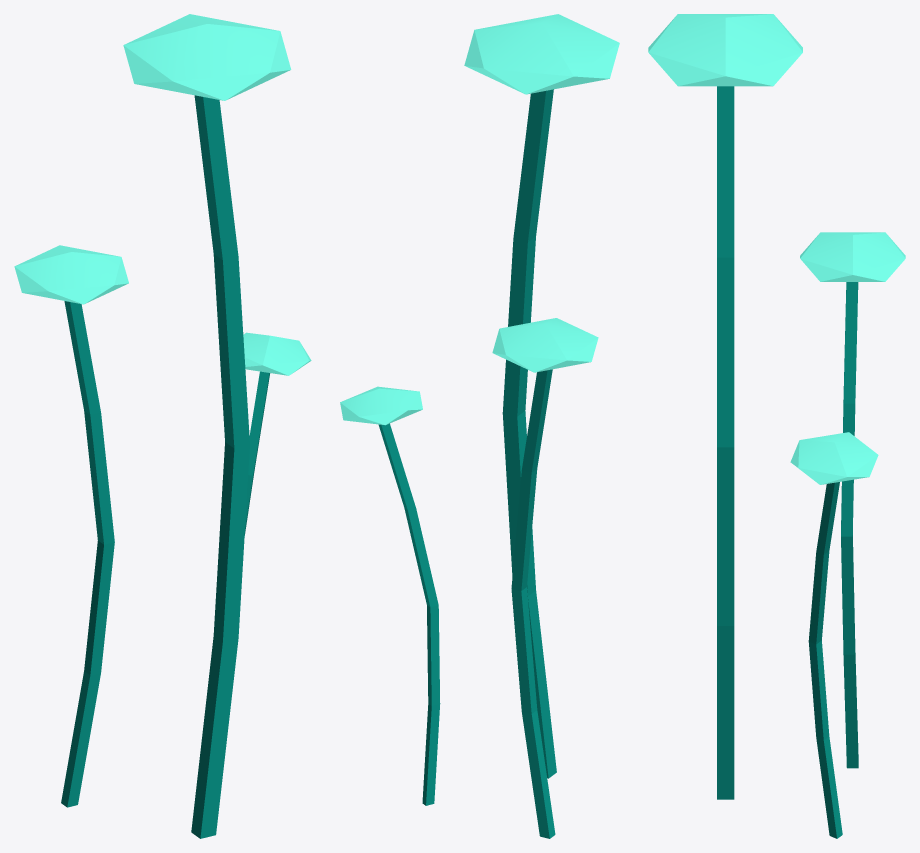
The model's file is Mushrooms_04.glb.
3 renders of one model, left to right at view 1: azimuth 30°, elevation 25°; view 2: azimuth 150°, elevation 25°; view 3: azimuth 270°, elevation 25°, orthographic. The views are drawn at different scales.
Parts seen in each view (by area): view 1: Mushrooms_04; view 2: Mushrooms_04; view 3: Mushrooms_04.
Part boxes in pixels (bbox=[...]): Mushrooms_04: bbox=[14, 14, 311, 838]; Mushrooms_04: bbox=[340, 14, 619, 838]; Mushrooms_04: bbox=[648, 14, 905, 838].
Bounding box in the file's own units: 0.1602 × 0.4556 × 0.135.
Materials: 2 (2 with a texture image).
